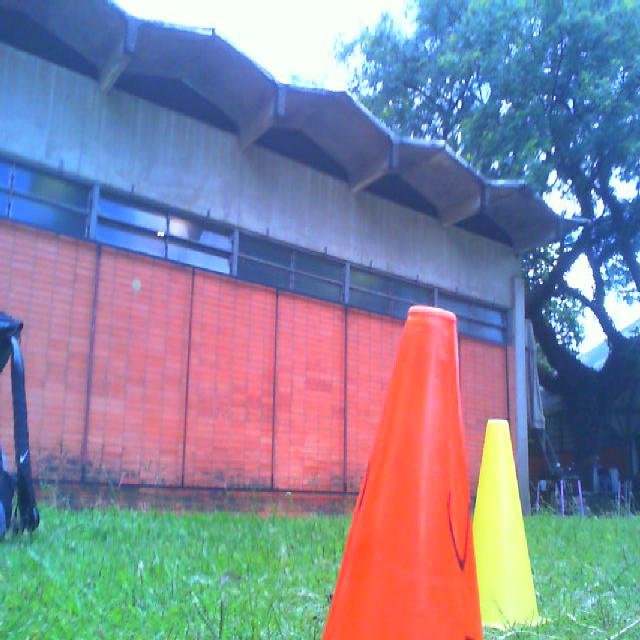cone: (321, 305, 482, 640), (473, 419, 542, 628)
